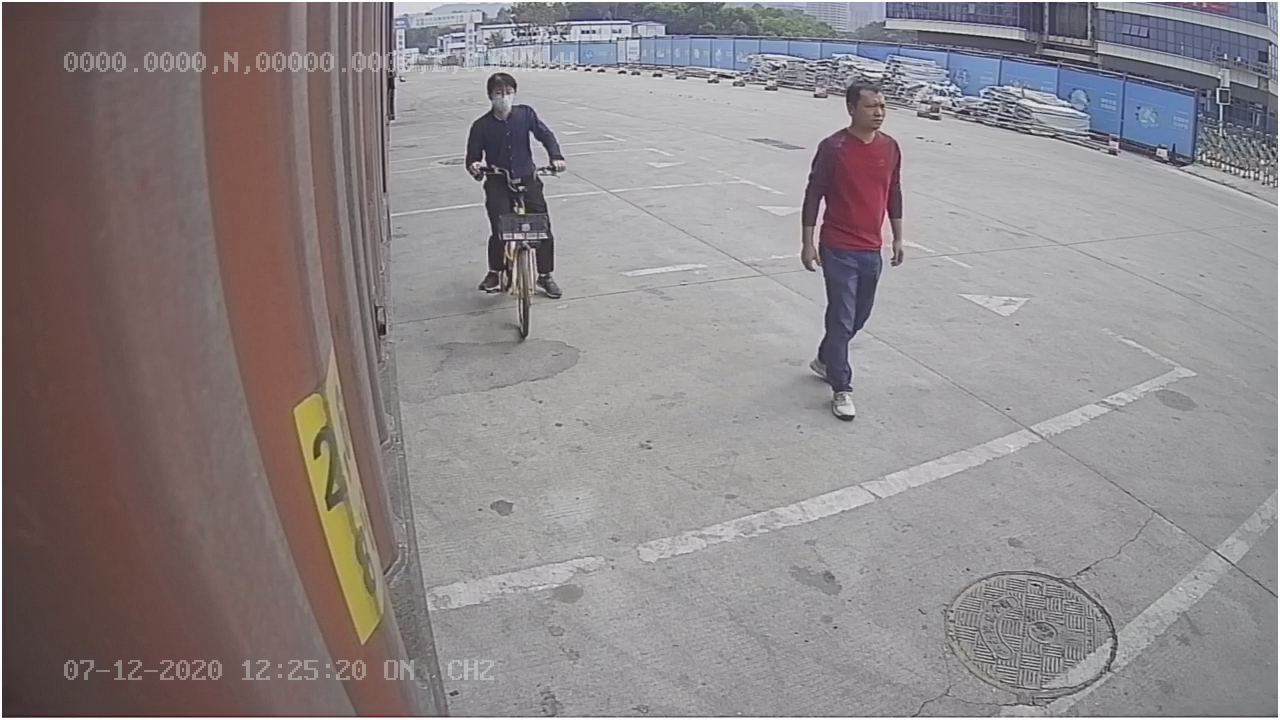person: (794, 75, 909, 428)
